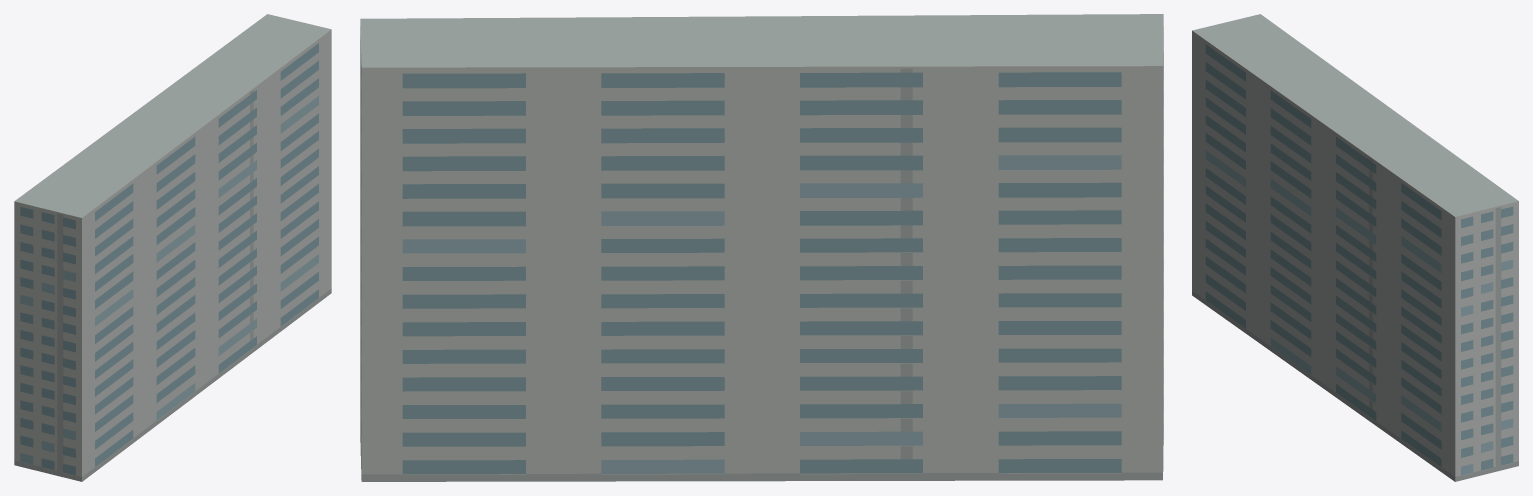
File: residential-228c1b56-d0cd-4a95-bedb-b48a836b0305.glb
The picture shows the model from 3 angles, left to right: view 1: azimuth 30°, elevation 25°; view 2: azimuth 150°, elevation 25°; view 3: azimuth 270°, elevation 25°; orthographic projection. The views are drawn at different scales.
Parts seen in each view (by area): view 1: residential-228c1b56-d0cd-4a95-bedb-b48a836b0305.tmp; view 2: residential-228c1b56-d0cd-4a95-bedb-b48a836b0305.tmp; view 3: residential-228c1b56-d0cd-4a95-bedb-b48a836b0305.tmp.
Boxes of the visible parts, <box> form: residential-228c1b56-d0cd-4a95-bedb-b48a836b0305.tmp: <box>14,14,331,481</box>; residential-228c1b56-d0cd-4a95-bedb-b48a836b0305.tmp: <box>360,14,1163,481</box>; residential-228c1b56-d0cd-4a95-bedb-b48a836b0305.tmp: <box>1192,14,1518,481</box>.
Size of the model in its own units: 75.19 by 45.75 by 51.16.
